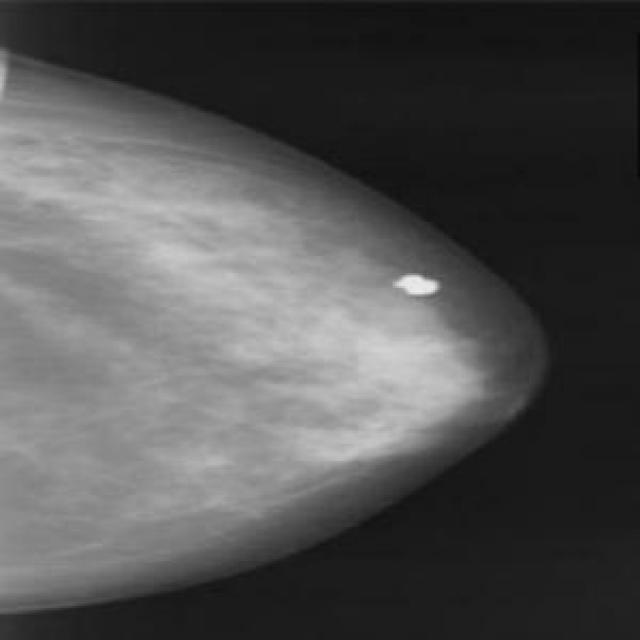tumor: (278, 247, 484, 470)
